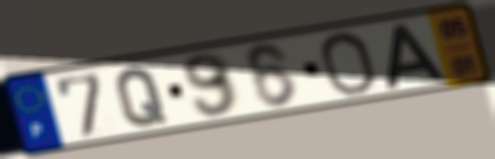6: (245, 41, 300, 110)
7: (52, 69, 104, 139)
9: (180, 50, 245, 120)
A: (384, 21, 449, 91)
O: (316, 29, 379, 98)
Q: (113, 65, 170, 129)
